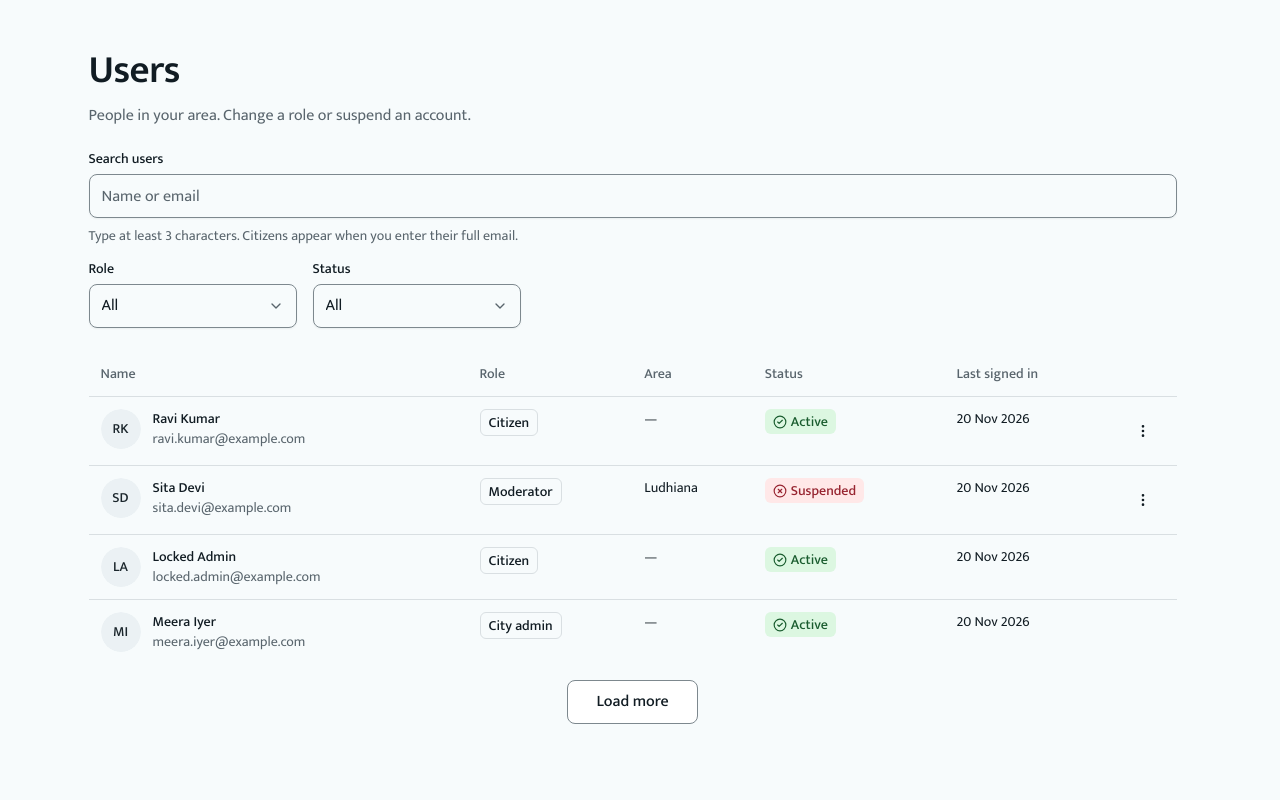
it: Admin Users › suspend and reactivate › suspend needs a reason, then sends status=suspended
The width and height of the screenshot is (1280, 800).
Expected: the text "Ravi Kumar" is shown, [152,407,220,430]
Press Enter in the button named "Actions for Ravi Kumar", box [1120,409,1164,453]
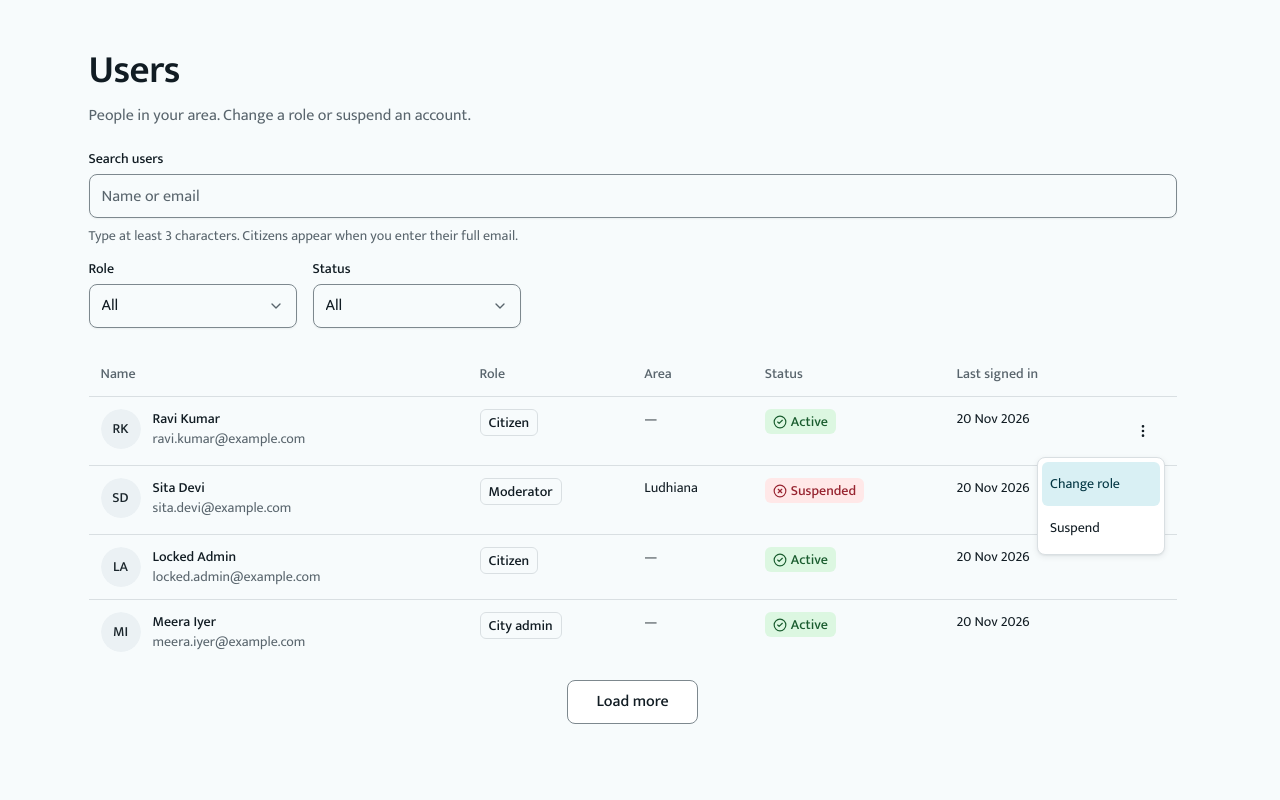
Click the menu item "Suspend". click: (1075, 528)
box: [1050,516,1100,539]
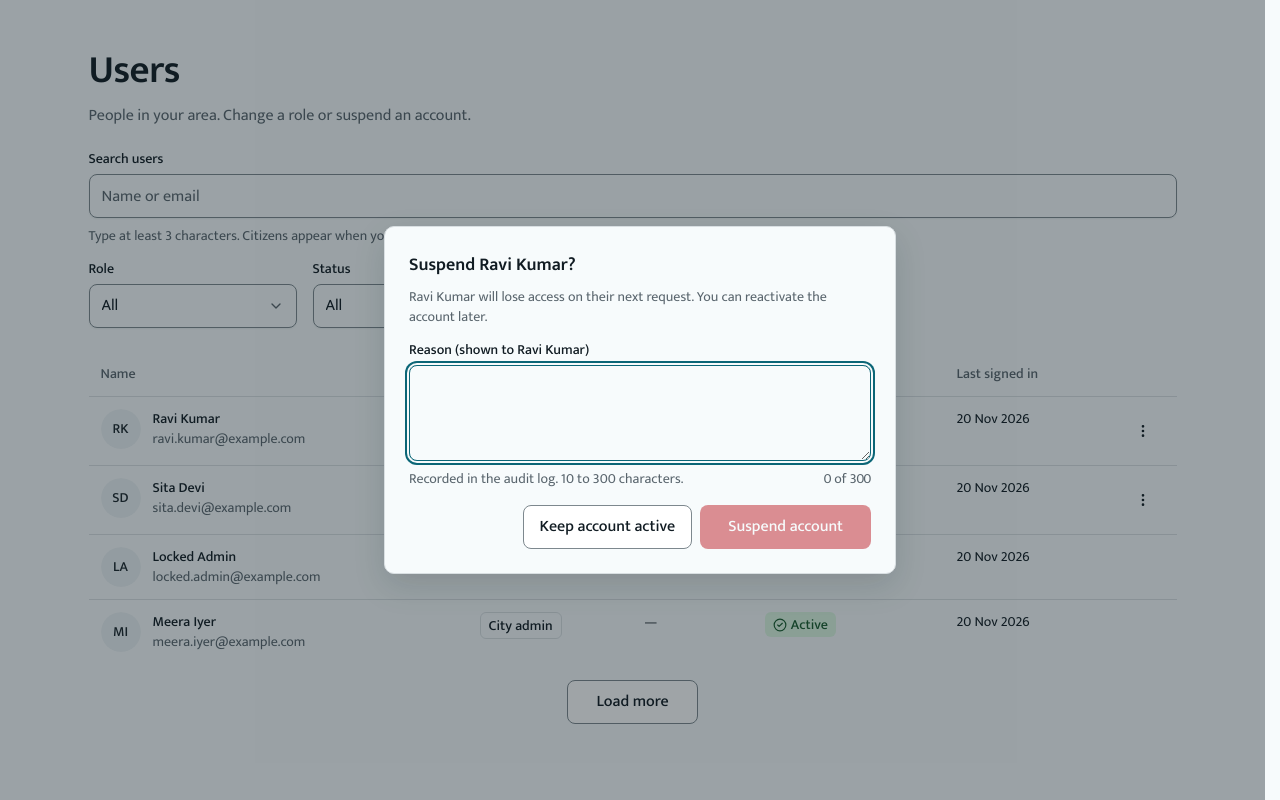
Expected: the button "Suspend account" is disabled, [700,505,871,549]
Expected: the button "Keep account active" is shown, [522,505,692,549]
Type "Posted spam repeatedly" into the text box labelled "Reason (shown to Ravi Kumar)". click: (640, 413)
box: [409,365,871,461]
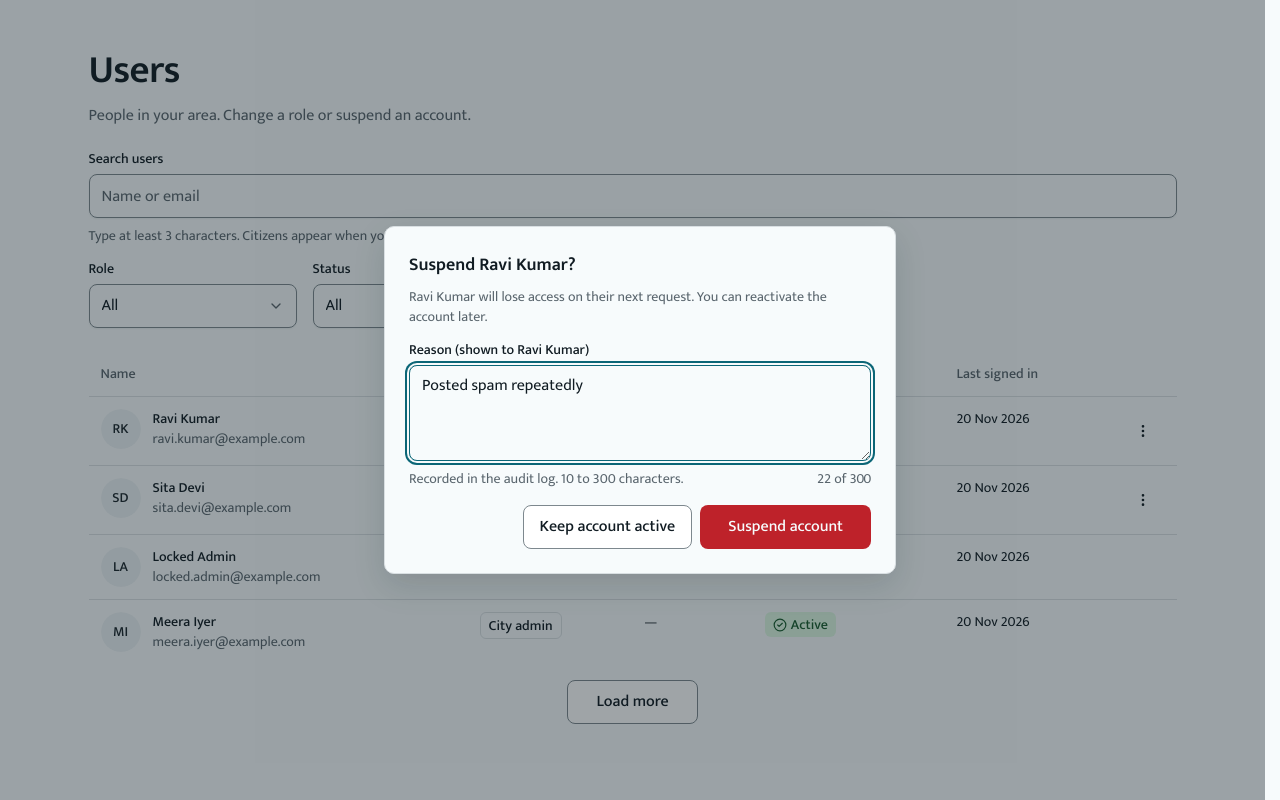
Click the button "Suspend account". click: (786, 527)
box: [700,505,871,549]
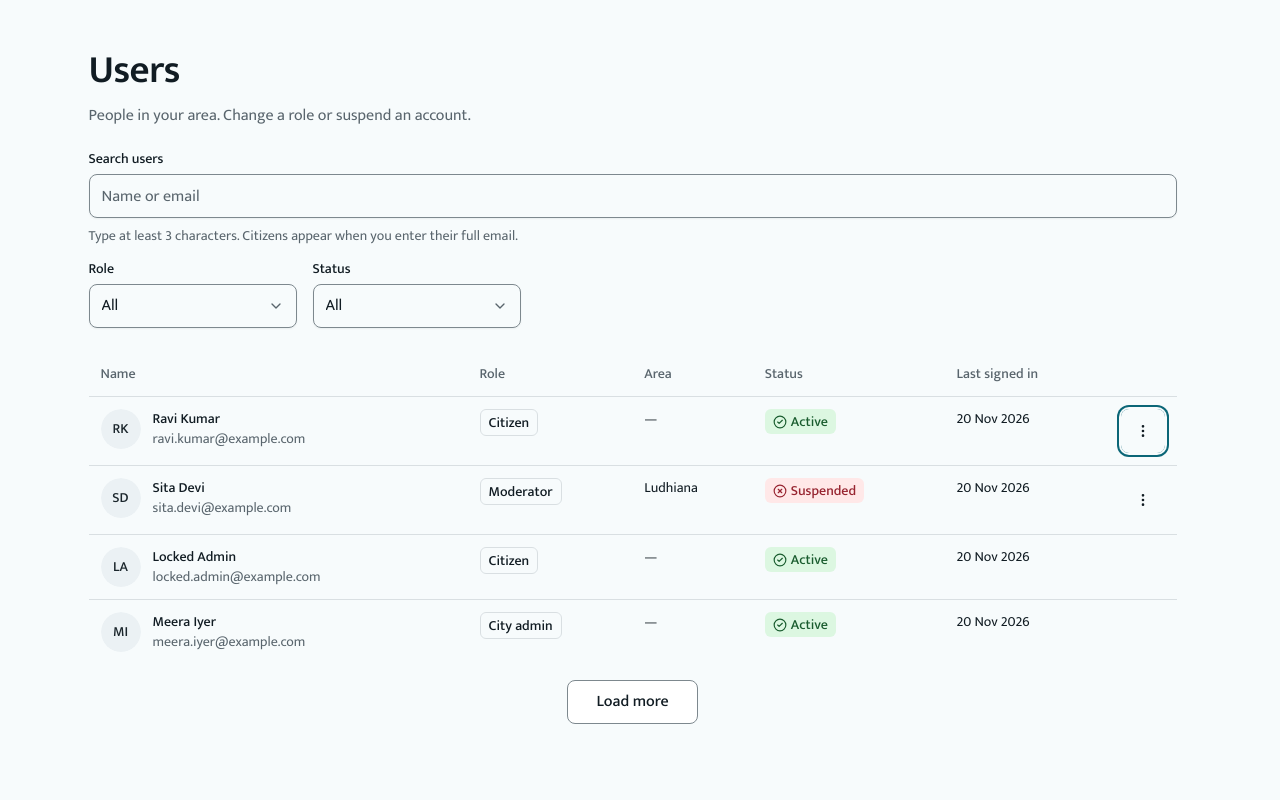
Expected: the dialog is gone
